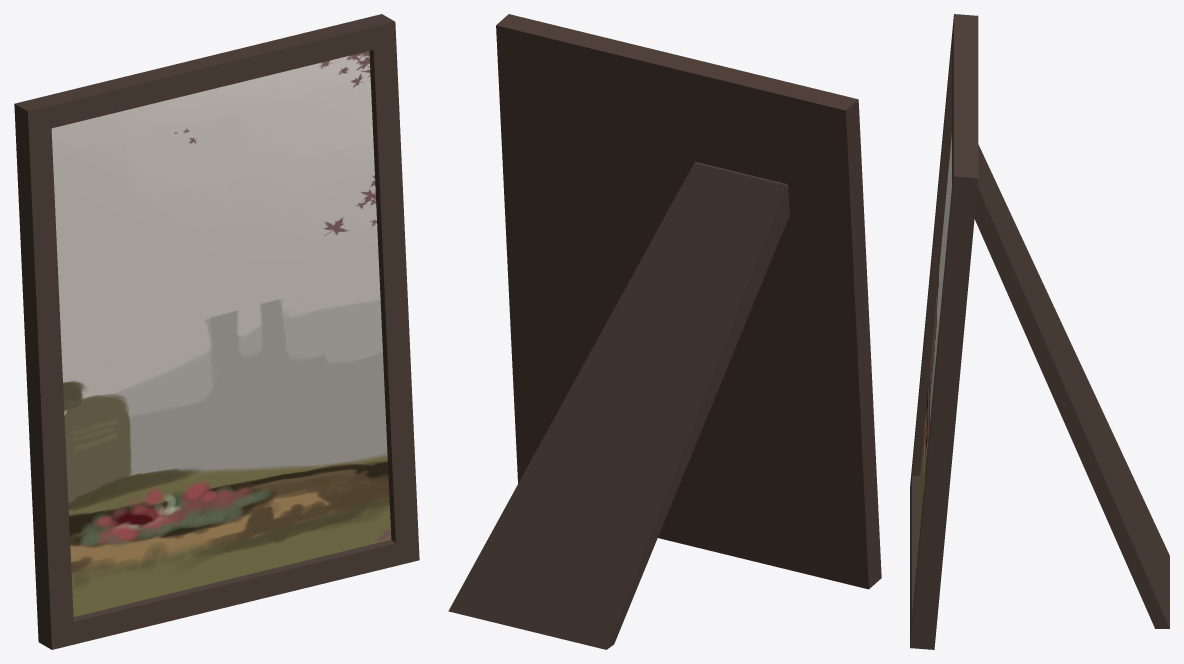
File: Sem_Fotolijstje3_Color.fbx
The picture shows the model from 3 angles, left to right: view 1: azimuth 30°, elevation 25°; view 2: azimuth 150°, elevation 25°; view 3: azimuth 270°, elevation 25°; orthographic projection. The views are drawn at different scales.
Parts seen in each view (by area): view 1: pCube4; view 2: pCube4; view 3: pCube4.
Part boxes in pixels (x1,y1,x2,y2): pCube4: (14,14,419,649); pCube4: (448,14,881,649); pCube4: (910,14,1169,649).
Size of the model in its own units: 1 by 1.37 by 0.6755.
Materials: 2 (1 with a texture image).
